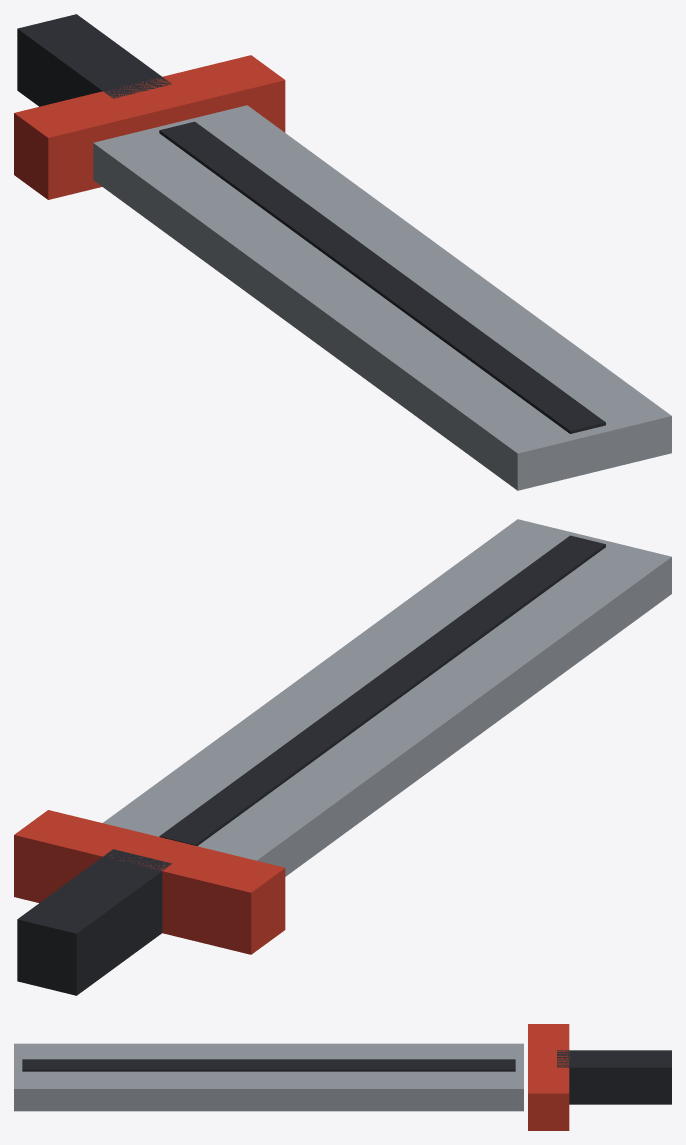
File: fw_gina1.glb
3 views of the same model, one above another, from view 1: azimuth 30°, elevation 25°; view 2: azimuth 150°, elevation 25°; view 3: azimuth 270°, elevation 25° (orthographic). The views are drawn at different scales.
Parts seen in each view (by area): view 1: fw_gina1; view 2: fw_gina1; view 3: fw_gina1.
Boxes of the visible parts, <box> form: fw_gina1: <box>14,14,671,490</box>; fw_gina1: <box>14,519,671,995</box>; fw_gina1: <box>14,1024,671,1130</box>.
Bounding box in the file's own units: 0.2 × 0.05 × 0.8.
